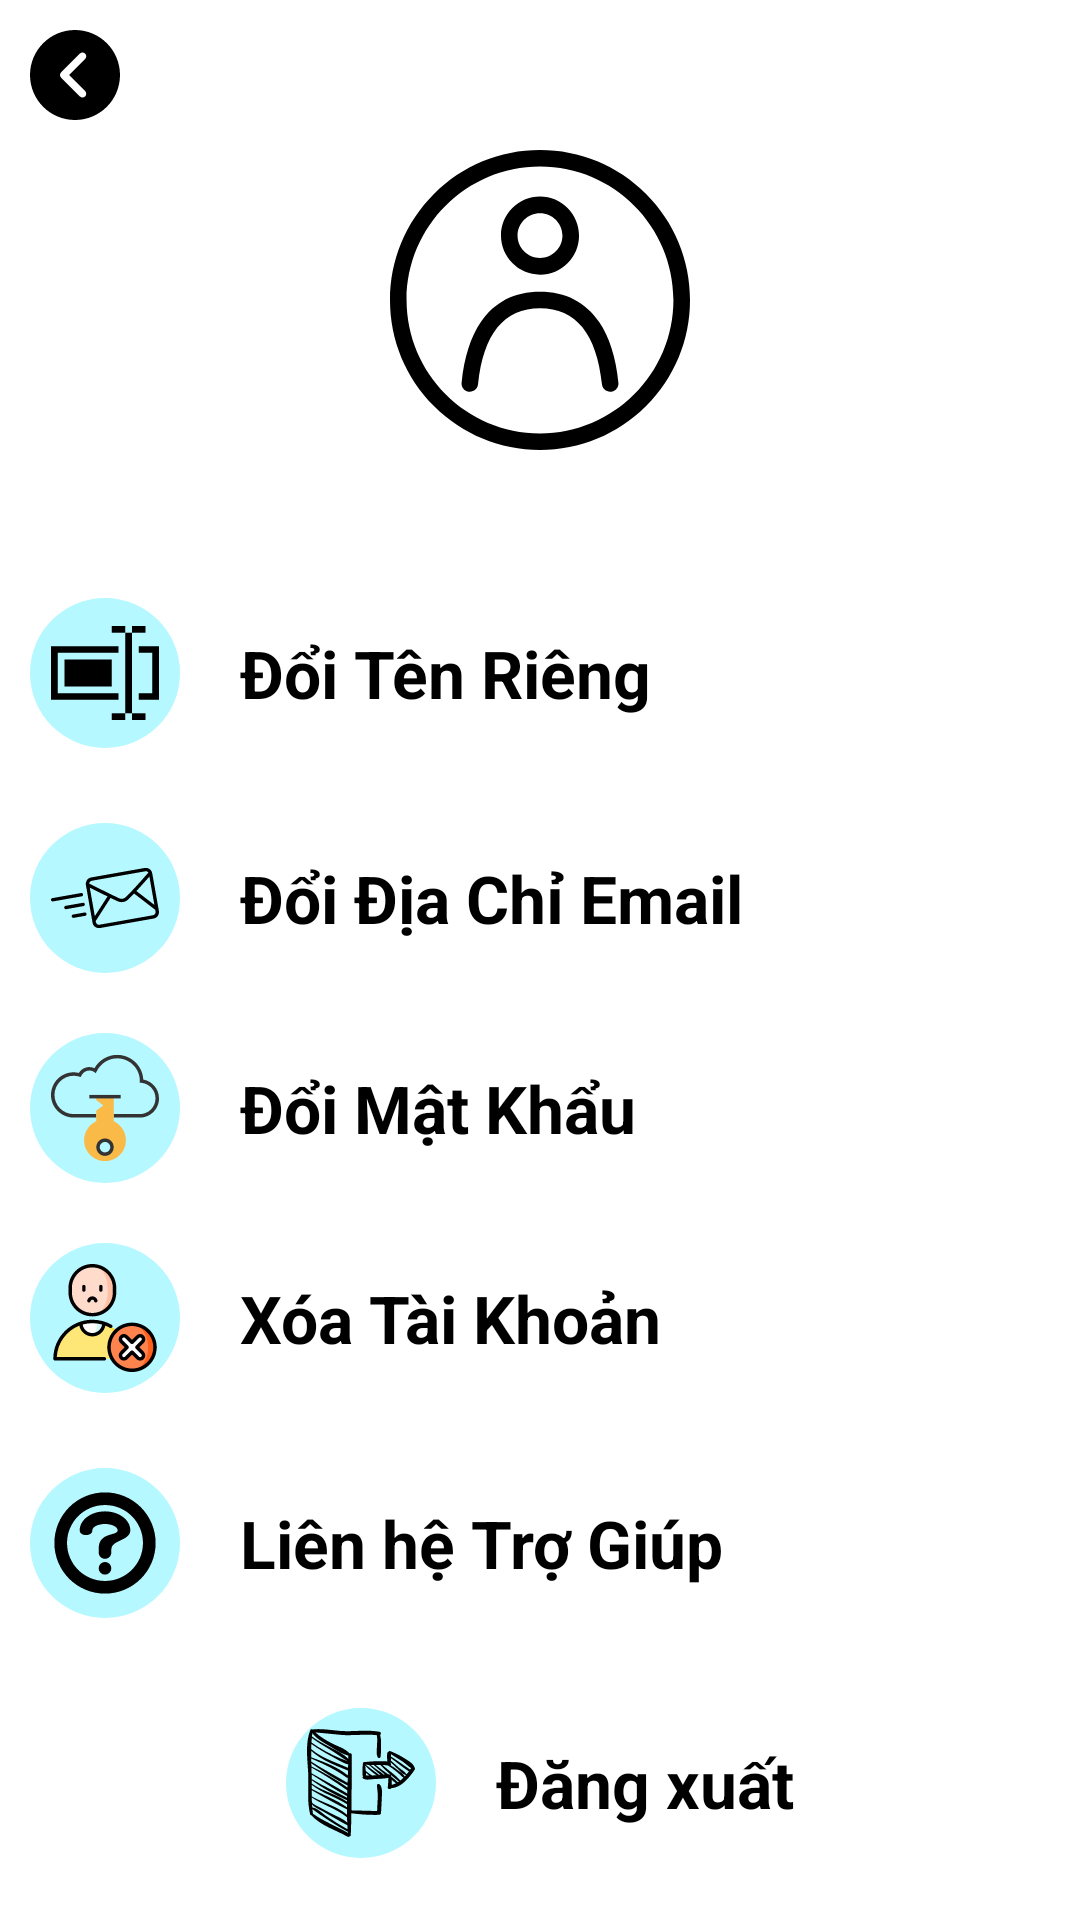

Icons on this 1080x1920 Android screen, each with its box as box(x1, y1, x2, y2):
edit rename: box(30, 598, 180, 748)
help: box(30, 1468, 180, 1618)
password reset: box(30, 1033, 180, 1183)
return: box(30, 30, 120, 120)
user: box(390, 150, 690, 450)
user delete: box(30, 1243, 180, 1393)
